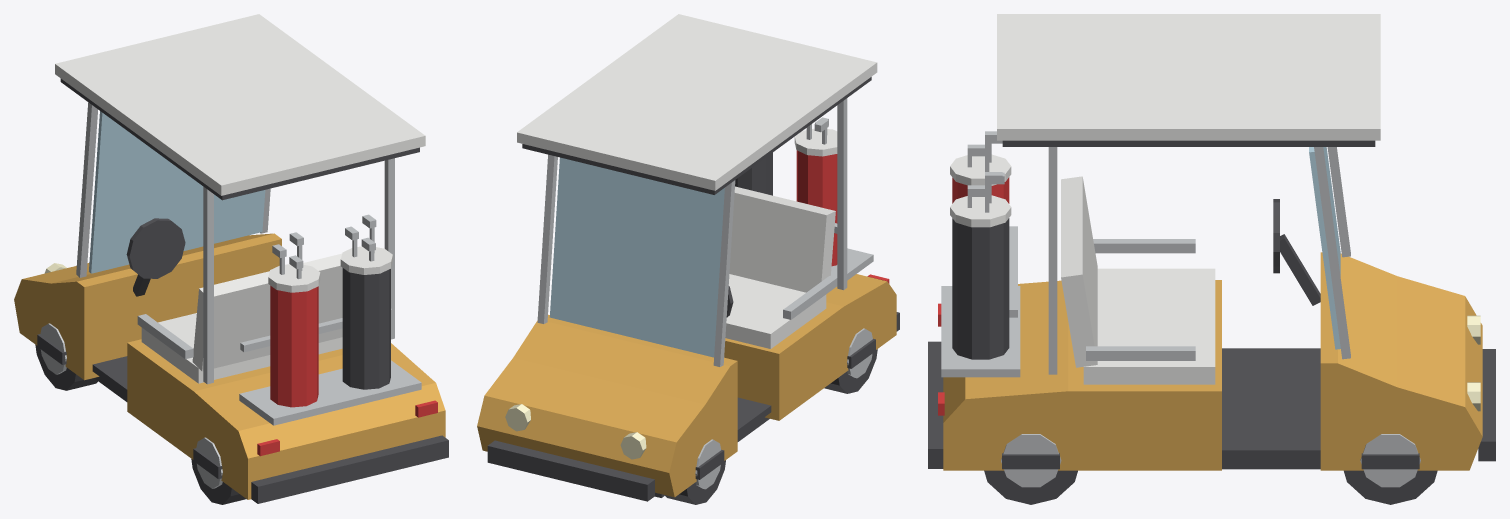
The model's file is golf_cart.glb.
3 views of the same model, side by side, from view 1: azimuth 30°, elevation 25°; view 2: azimuth 150°, elevation 25°; view 3: azimuth 270°, elevation 25° (orthographic). The views are drawn at different scales.
Visible parts, largest first — view 1: body, wheel_FL, wheel_RL; view 2: body, wheel_FL, wheel_RL; view 3: body, wheel_FR, wheel_RR.
Boxes of the visible parts, x1=… form: body: x1=14, y1=14, x2=448, y2=503; wheel_FL: x1=35, y1=323, x2=97, y2=390; wheel_RL: x1=191, y1=437, x2=245, y2=504; body: x1=477, y1=14, x2=899, y2=501; wheel_FL: x1=665, y1=439, x2=725, y2=504; wheel_RL: x1=824, y1=328, x2=877, y2=393; body: x1=928, y1=14, x2=1495, y2=470; wheel_FR: x1=1344, y1=434, x2=1437, y2=504; wheel_RR: x1=984, y1=434, x2=1077, y2=504.
Bounding box in the file's own units: 1.25 × 1.91 × 2.59.
